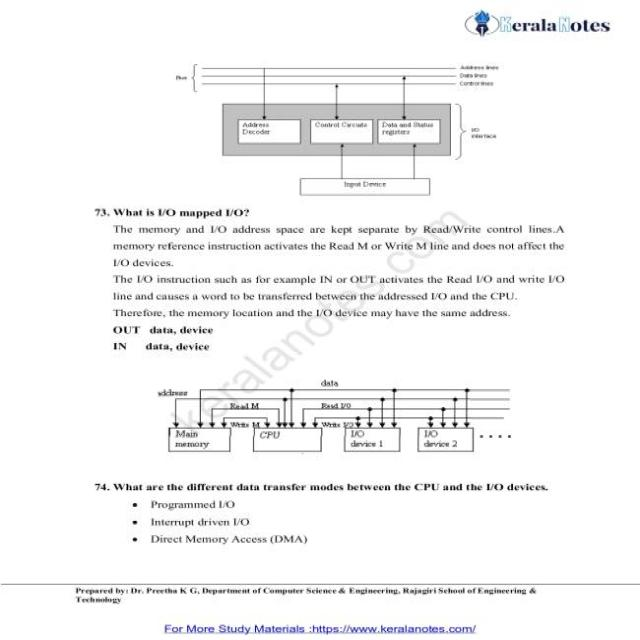Figure Detection - v3 Dataset Version2: (163, 46, 512, 202), (148, 375, 531, 461)
